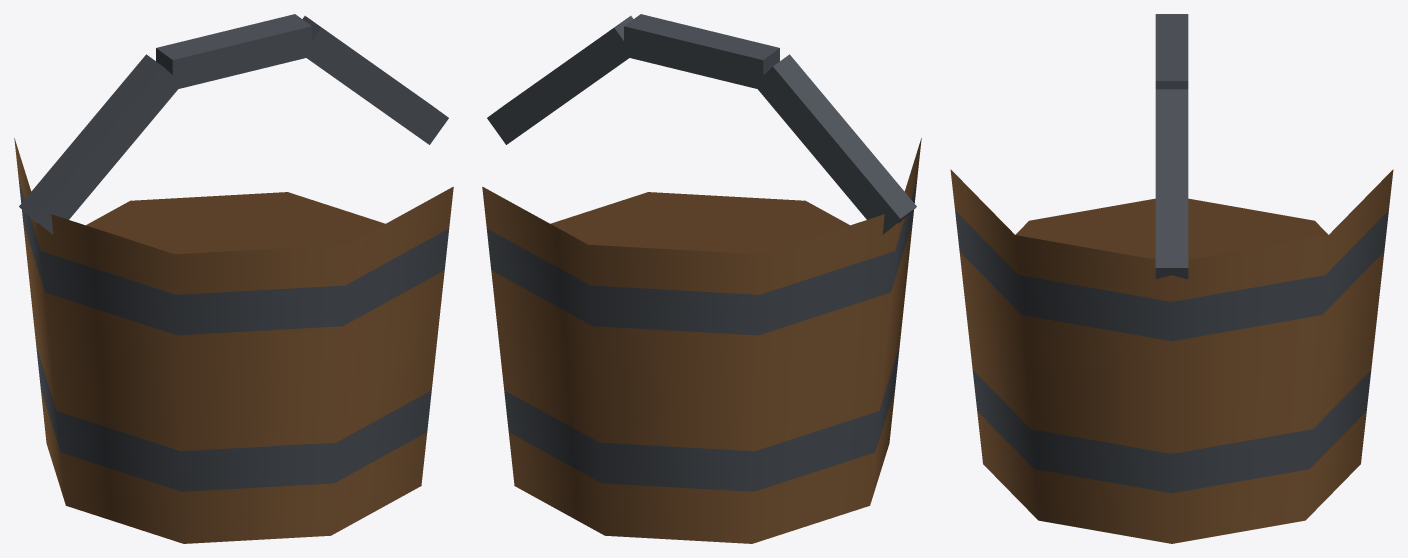
File: crf_pail.glb
The picture shows the model from 3 angles, left to right: view 1: azimuth 30°, elevation 25°; view 2: azimuth 150°, elevation 25°; view 3: azimuth 270°, elevation 25°; orthographic projection. The views are drawn at different scales.
Parts seen in each view (by area): view 1: crf_pail; view 2: crf_pail; view 3: crf_pail.
Part boxes in pixels (x1,y1,x2,y2): crf_pail: (14, 14, 453, 543); crf_pail: (482, 14, 921, 543); crf_pail: (950, 14, 1393, 543).
Size of the model in its own units: 0.0714 by 0.0705 by 0.068.
